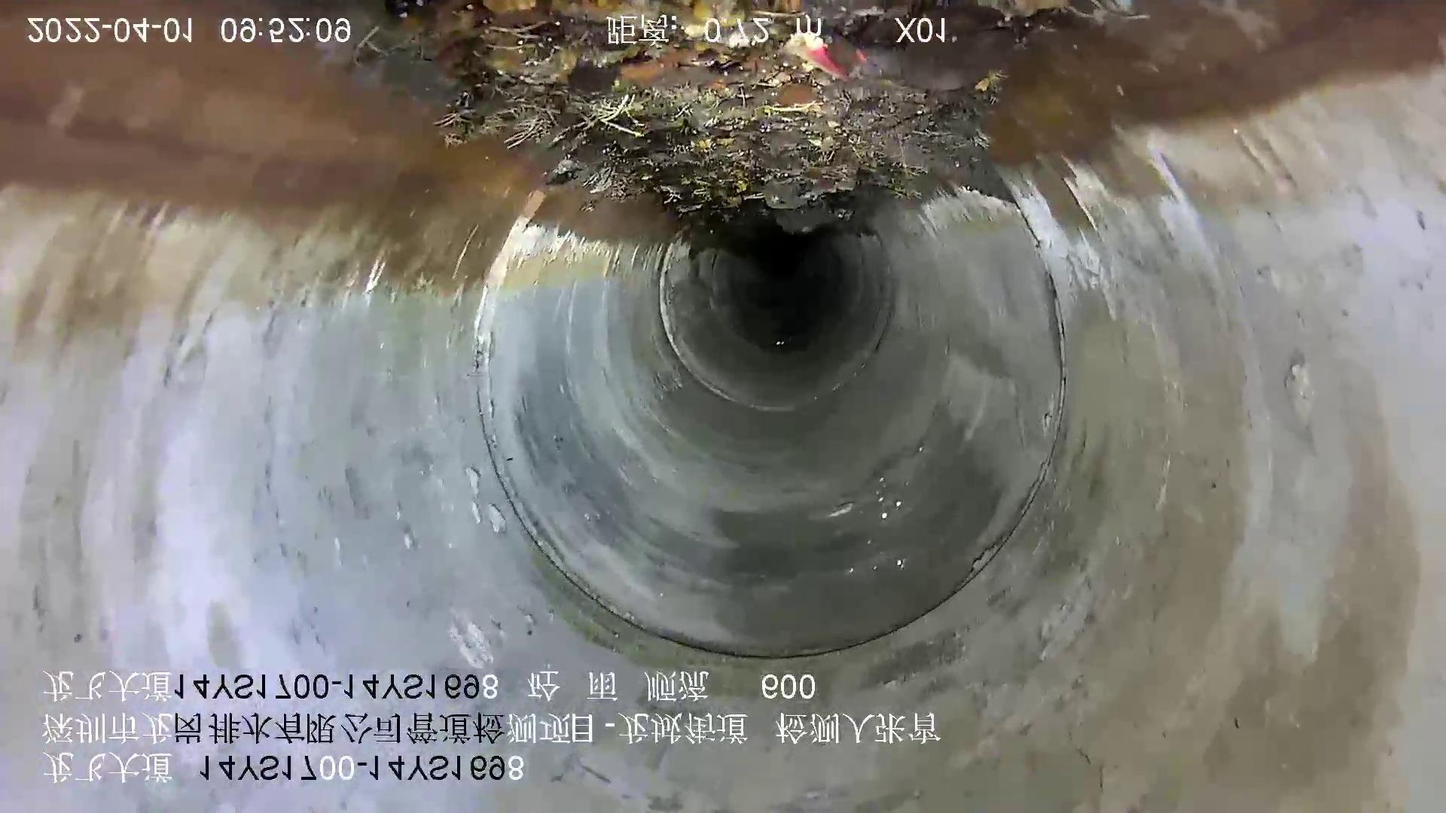CJ: (357, 1, 1139, 248)
CKTJ: (468, 166, 1076, 667), (652, 223, 900, 416)
